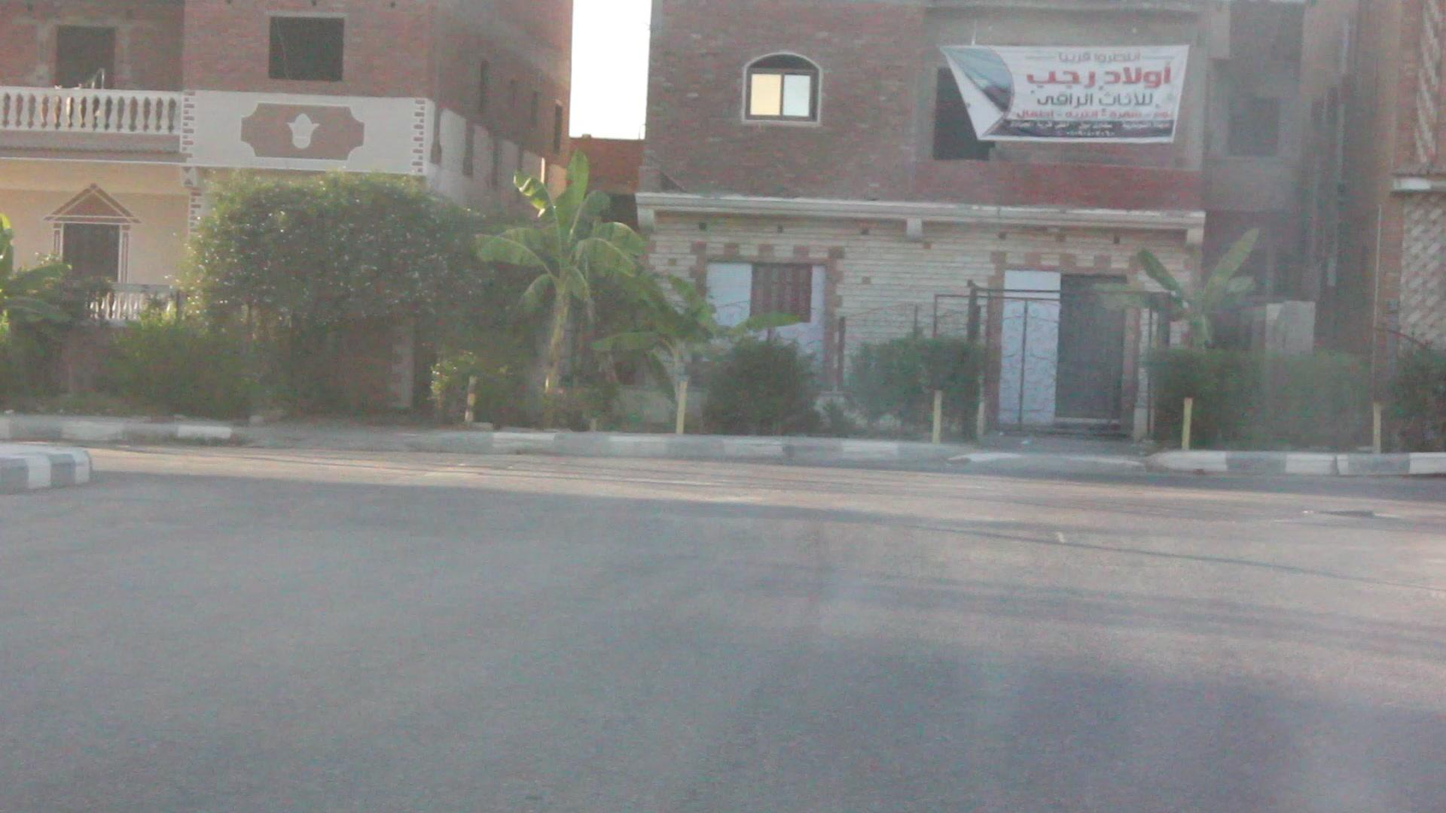Bump: (100, 506, 1433, 568)
